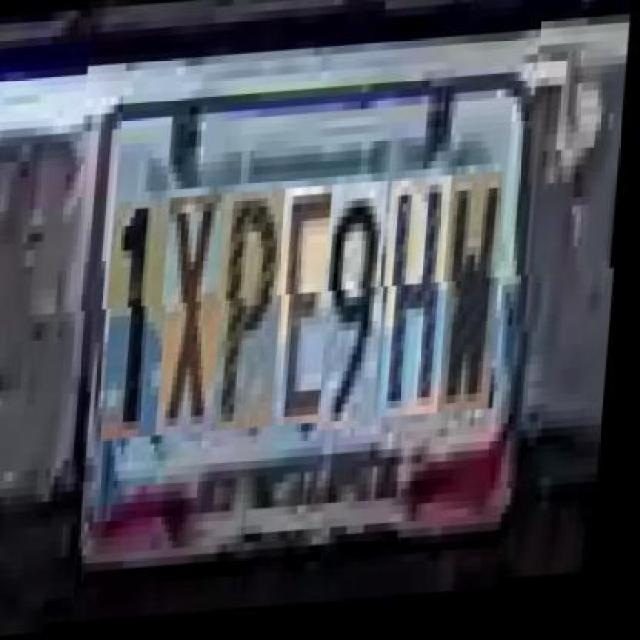1: (108, 202, 178, 443)
9: (326, 187, 396, 438)
e: (278, 190, 349, 432)
h: (385, 182, 460, 426)
p: (218, 193, 294, 436)
w: (444, 180, 510, 422)
x: (162, 198, 233, 439)
